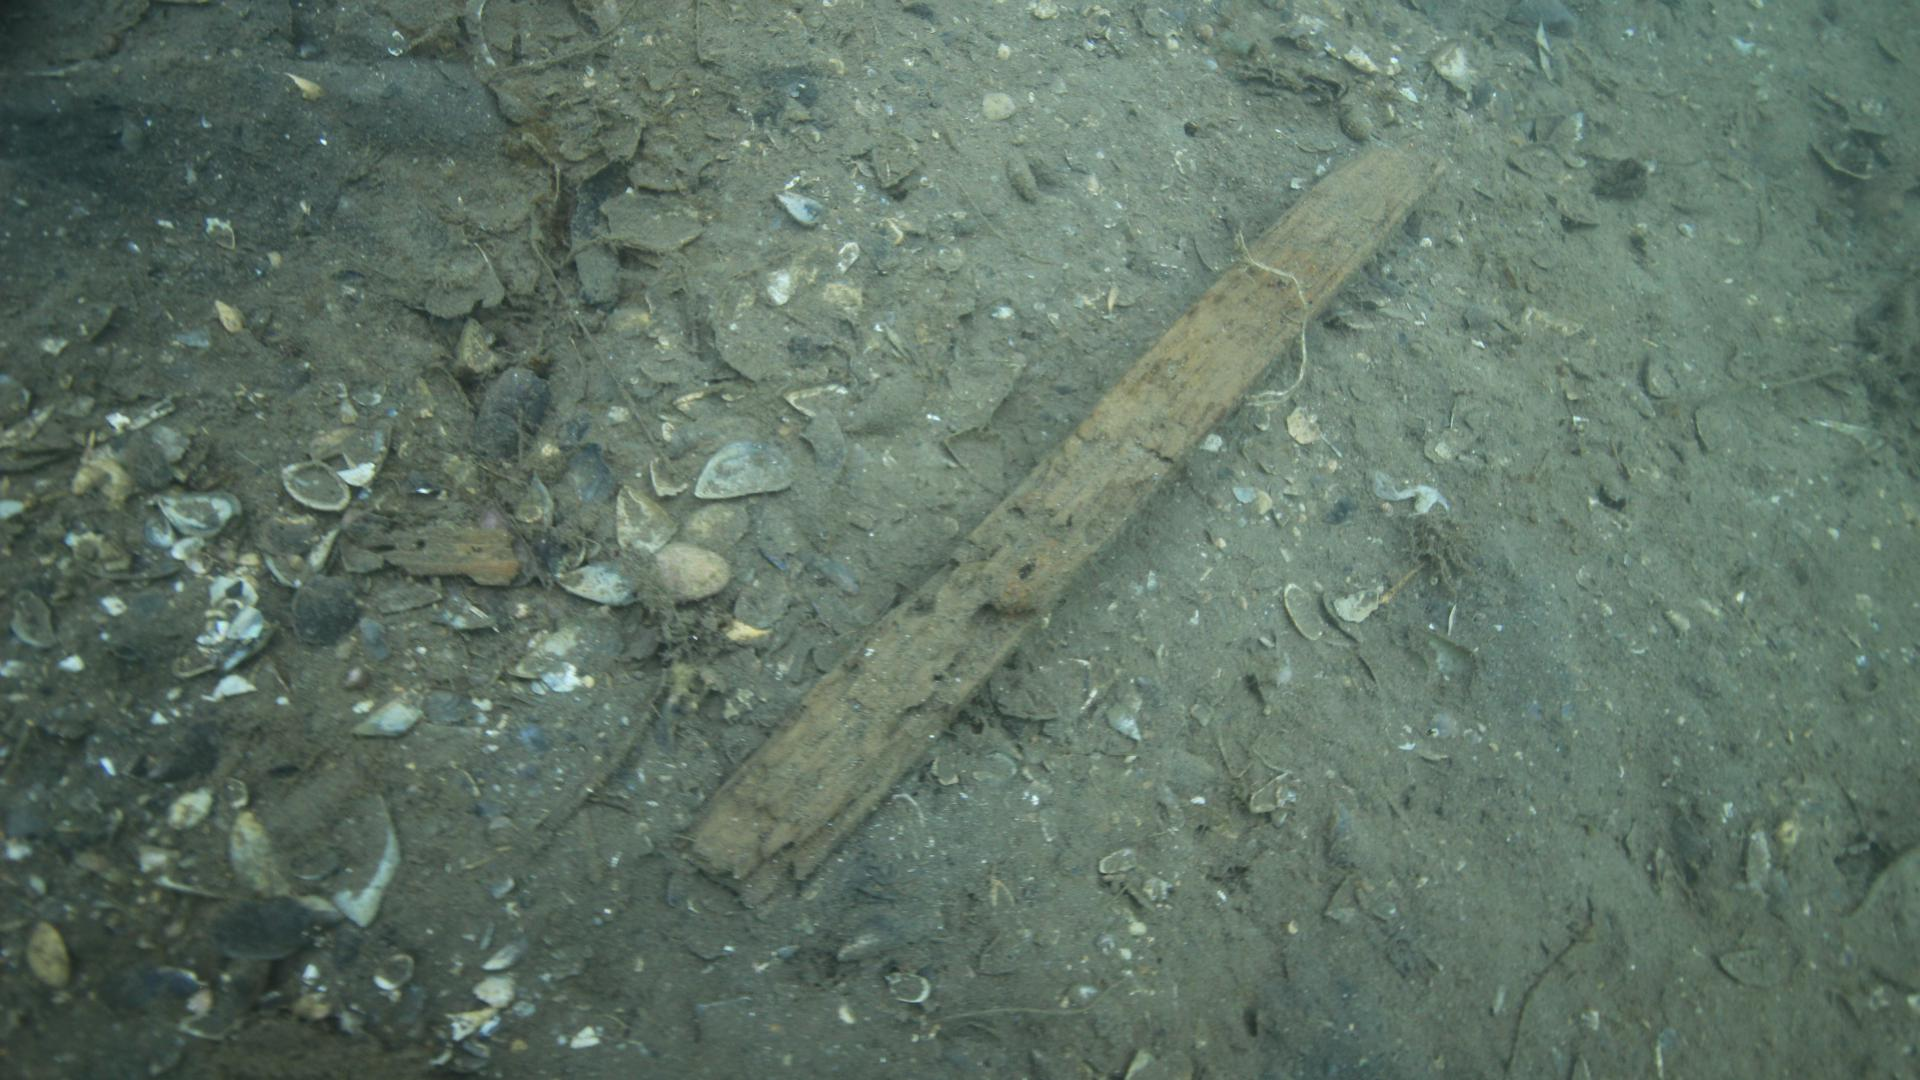wood: (676, 123, 1462, 918)
